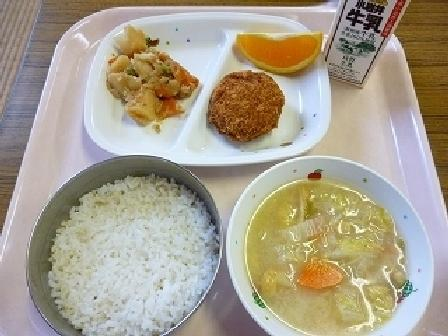Citrus: (233, 15, 322, 78)
Milk: (317, 0, 417, 80)
Rice: (30, 158, 220, 330)
Soups: (230, 160, 429, 335)
cutlet: (206, 63, 283, 150)
vegetable based cooked food: (95, 34, 198, 122)
